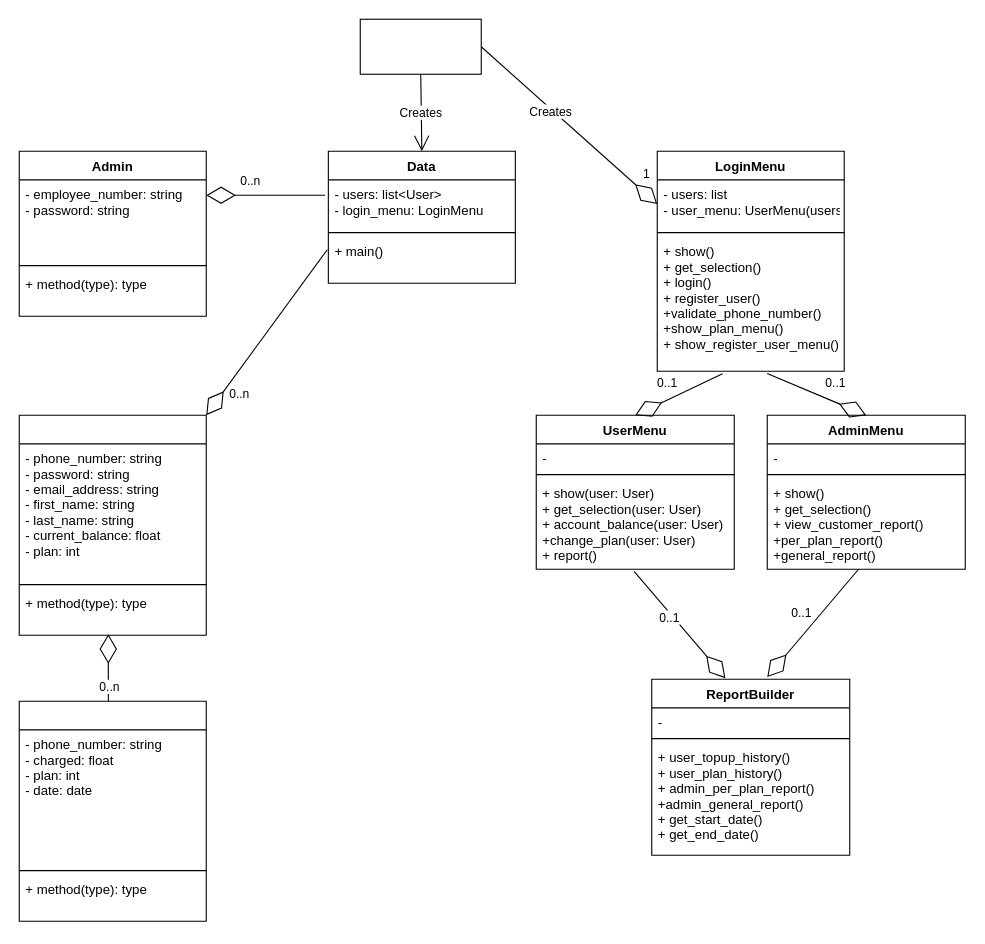
This 985x944 diagram has some shape labels left out. The box of each missing label's shape, as (x1, y1, x2, y2) in pixels:
program.py: (359, 18, 481, 74)
Topup: (18, 700, 206, 921)
User: (18, 414, 206, 635)
